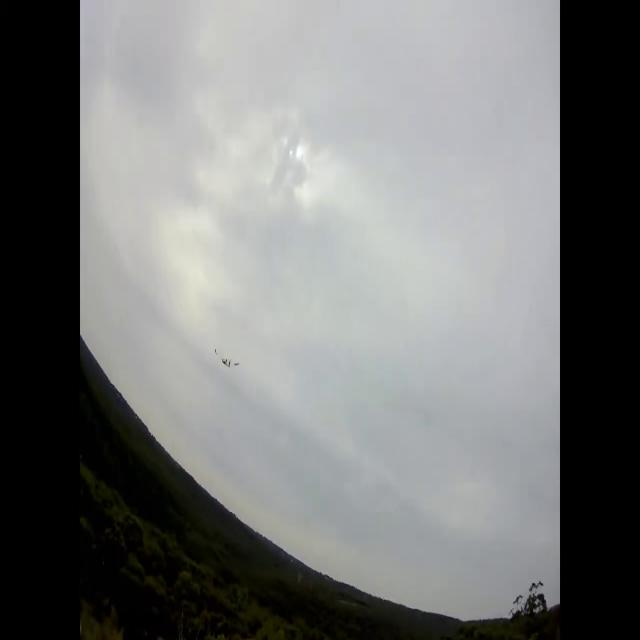iha: (214, 346, 240, 370)
